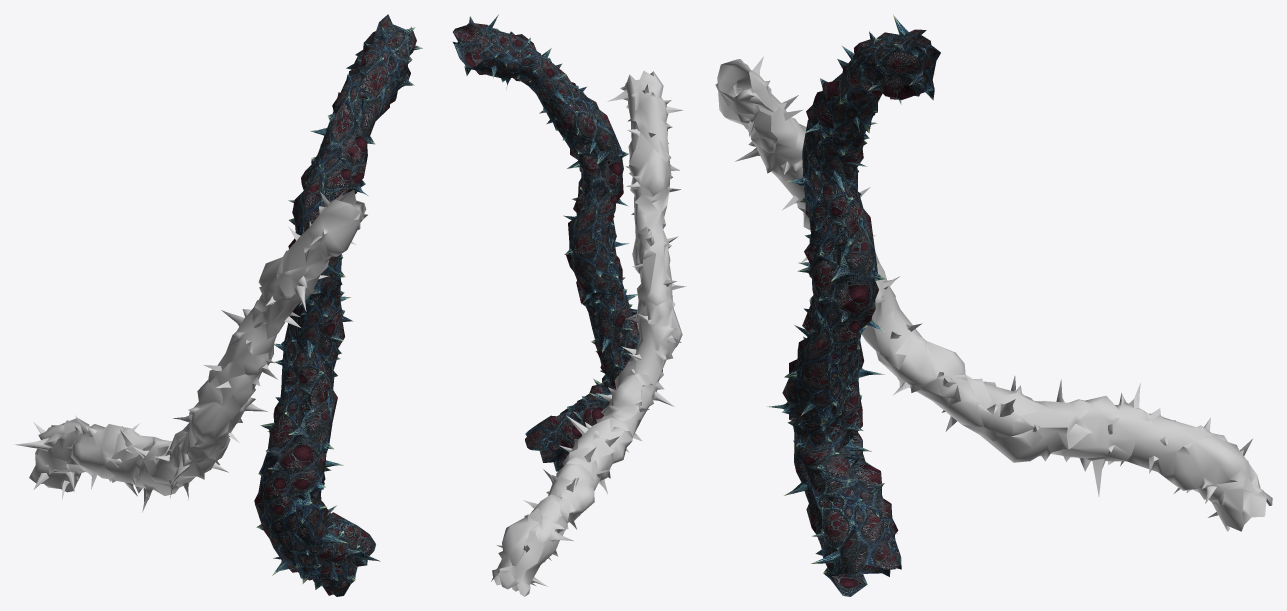
File: 02_03_Makaijyu_05.fbx
The picture shows the model from 3 angles, left to right: view 1: azimuth 30°, elevation 25°; view 2: azimuth 150°, elevation 25°; view 3: azimuth 270°, elevation 25°; orthographic projection. The views are drawn at different scales.
Visible parts, largest first — view 1: LODGroup_3_MainMesh_1_SubMesh_1, LODGroup_3_MainMesh_1_SubMesh_2, LODGroup_3_MainMesh_1_SubMesh_3; view 2: LODGroup_3_MainMesh_1_SubMesh_1, LODGroup_3_MainMesh_1_SubMesh_2, LODGroup_3_MainMesh_1_SubMesh_3; view 3: LODGroup_3_MainMesh_1_SubMesh_1, LODGroup_3_MainMesh_1_SubMesh_2, LODGroup_3_MainMesh_1_SubMesh_3.
Boxes of the visible parts, bbox=[...] form: LODGroup_3_MainMesh_1_SubMesh_1: bbox=[15, 190, 367, 512]; LODGroup_3_MainMesh_1_SubMesh_2: bbox=[254, 24, 422, 575]; LODGroup_3_MainMesh_1_SubMesh_3: bbox=[256, 14, 396, 596]; LODGroup_3_MainMesh_1_SubMesh_1: bbox=[491, 70, 686, 596]; LODGroup_3_MainMesh_1_SubMesh_2: bbox=[452, 14, 639, 462]; LODGroup_3_MainMesh_1_SubMesh_3: bbox=[464, 22, 632, 471]; LODGroup_3_MainMesh_1_SubMesh_1: bbox=[715, 56, 1272, 531]; LODGroup_3_MainMesh_1_SubMesh_2: bbox=[766, 14, 934, 574]; LODGroup_3_MainMesh_1_SubMesh_3: bbox=[782, 29, 940, 596].
Size of the model in its own units: 823 by 1538 by 1256.
